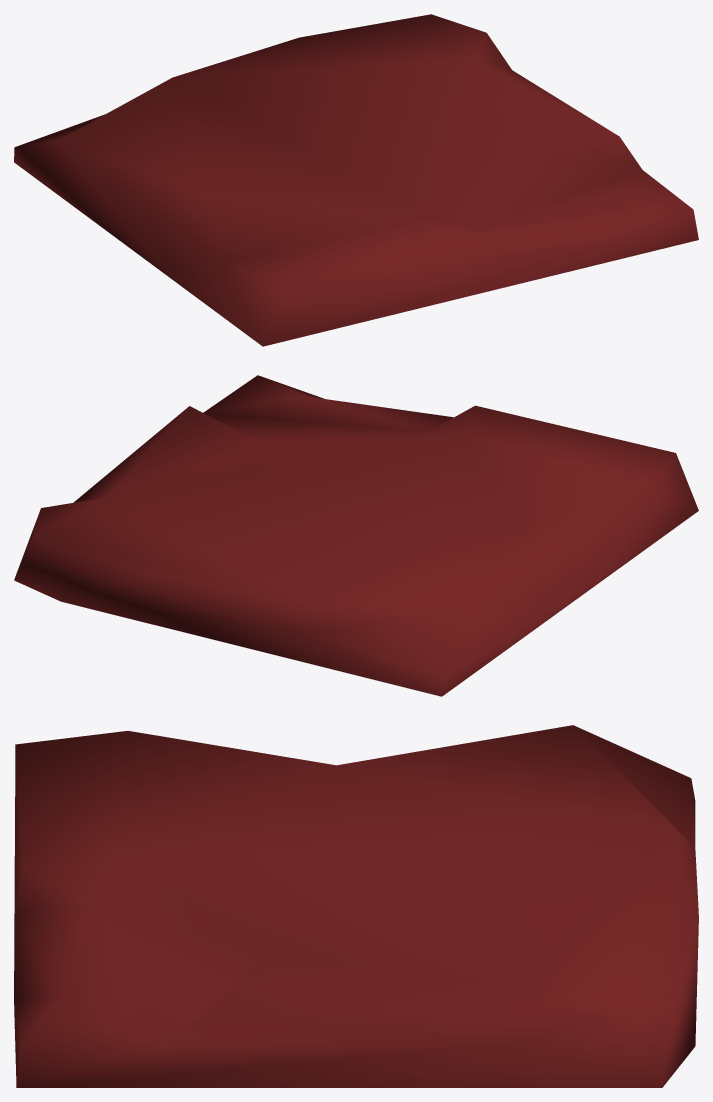
Rendered from SM_stone_plate_04.fbx.
3 renders of one model, top to bottom at view 1: azimuth 30°, elevation 25°; view 2: azimuth 150°, elevation 25°; view 3: azimuth 270°, elevation 25°, orthographic. The views are drawn at different scales.
Visible parts, largest first — view 1: stone_plate_04; view 2: stone_plate_04; view 3: stone_plate_04.
Part boxes in pixels (box(x1,y1,x2,y2)): stone_plate_04: box(14, 14, 698, 346); stone_plate_04: box(14, 375, 698, 696); stone_plate_04: box(14, 725, 698, 1087).
Bounding box in the file's own units: 90.83 × 10.88 × 91.05.
